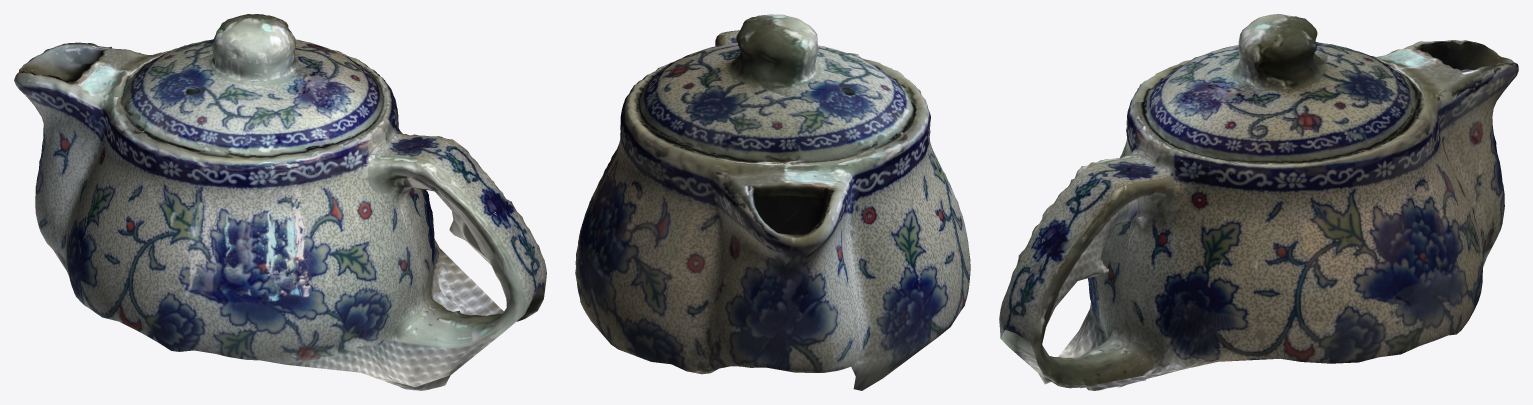
File: teapot.fbx
The picture shows the model from 3 angles, left to right: view 1: azimuth 30°, elevation 25°; view 2: azimuth 150°, elevation 25°; view 3: azimuth 270°, elevation 25°; orthographic projection. The views are drawn at different scales.
Visible parts, largest first — view 1: model; view 2: model; view 3: model.
Part boxes in pixels (x1,y1,x2,y2): model: (14, 14, 546, 390); model: (575, 14, 970, 390); model: (999, 14, 1518, 390).
Size of the model in its own units: 64.34 by 56.28 by 80.75.
Materials: 1 (1 with a texture image).
